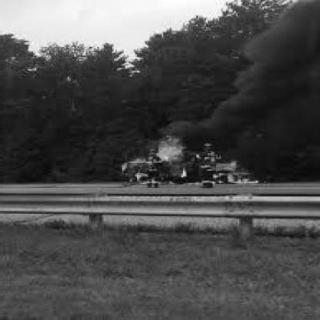Fire: (133, 153, 149, 164), (181, 165, 189, 178)
